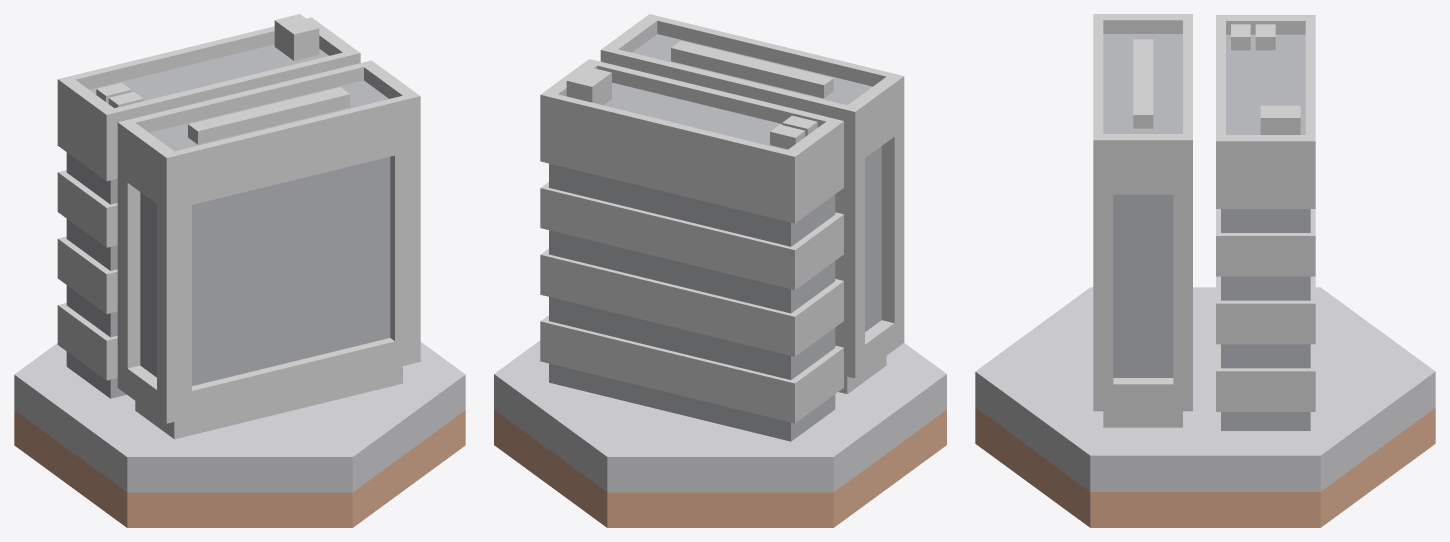
The model's file is 2_buildings_3_high.fbx.
3 views of the same model, side by side, from view 1: azimuth 30°, elevation 25°; view 2: azimuth 150°, elevation 25°; view 3: azimuth 270°, elevation 25° (orthographic).
Visible parts, largest first — view 1: low_wideB, pavement_high.016, low_wideA; view 2: low_wideA, pavement_high.016, low_wideB; view 3: pavement_high.016, low_wideA, low_wideB.
Boxes of the visible parts, box(x1,y1,x2,y2) form: low_wideB: box(117, 60, 420, 439); pavement_high.016: box(14, 342, 465, 527); low_wideA: box(57, 14, 360, 398); low_wideA: box(540, 59, 843, 441); pavement_high.016: box(494, 340, 946, 527); low_wideB: box(600, 14, 904, 394); pavement_high.016: box(975, 287, 1435, 527); low_wideA: box(1216, 15, 1315, 430); low_wideB: box(1093, 14, 1192, 427).
Bounding box in the file's own units: 100 × 105 × 115.
